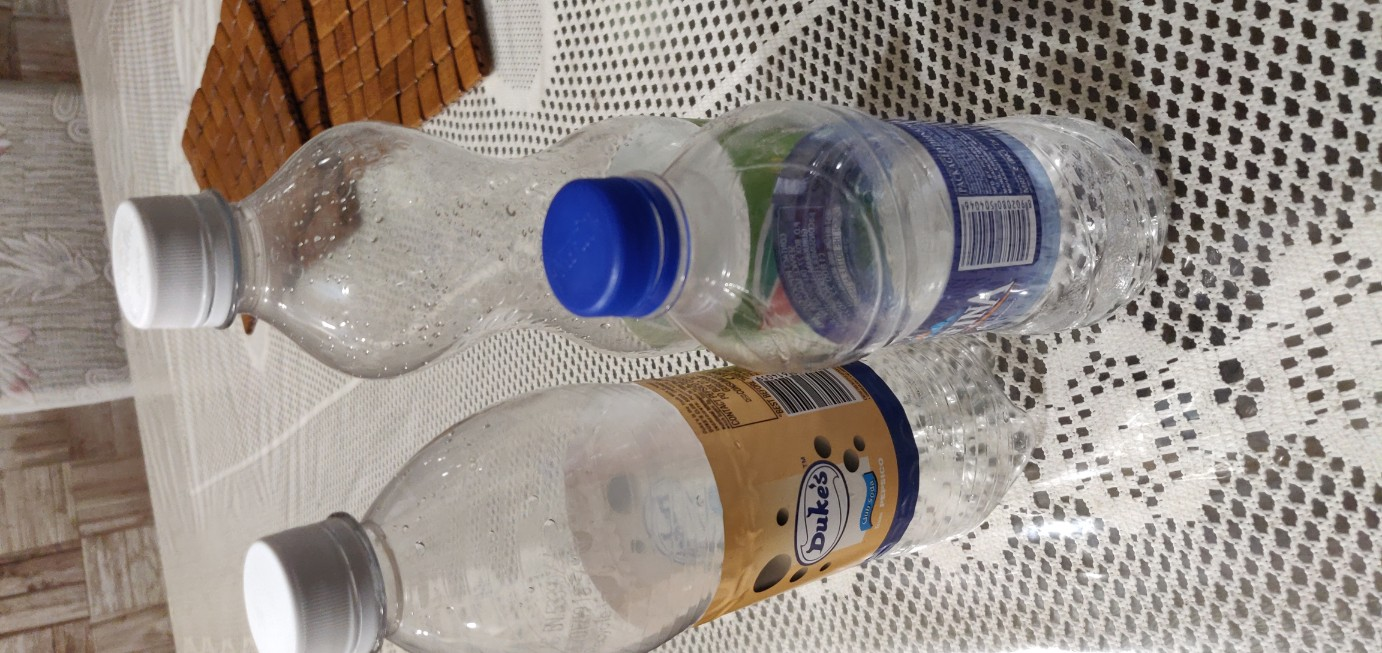Electronics: (91, 83, 1002, 398), (222, 317, 1064, 653), (509, 84, 1219, 385)
